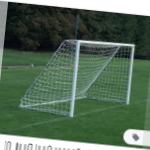goals: (20, 38, 136, 119)
